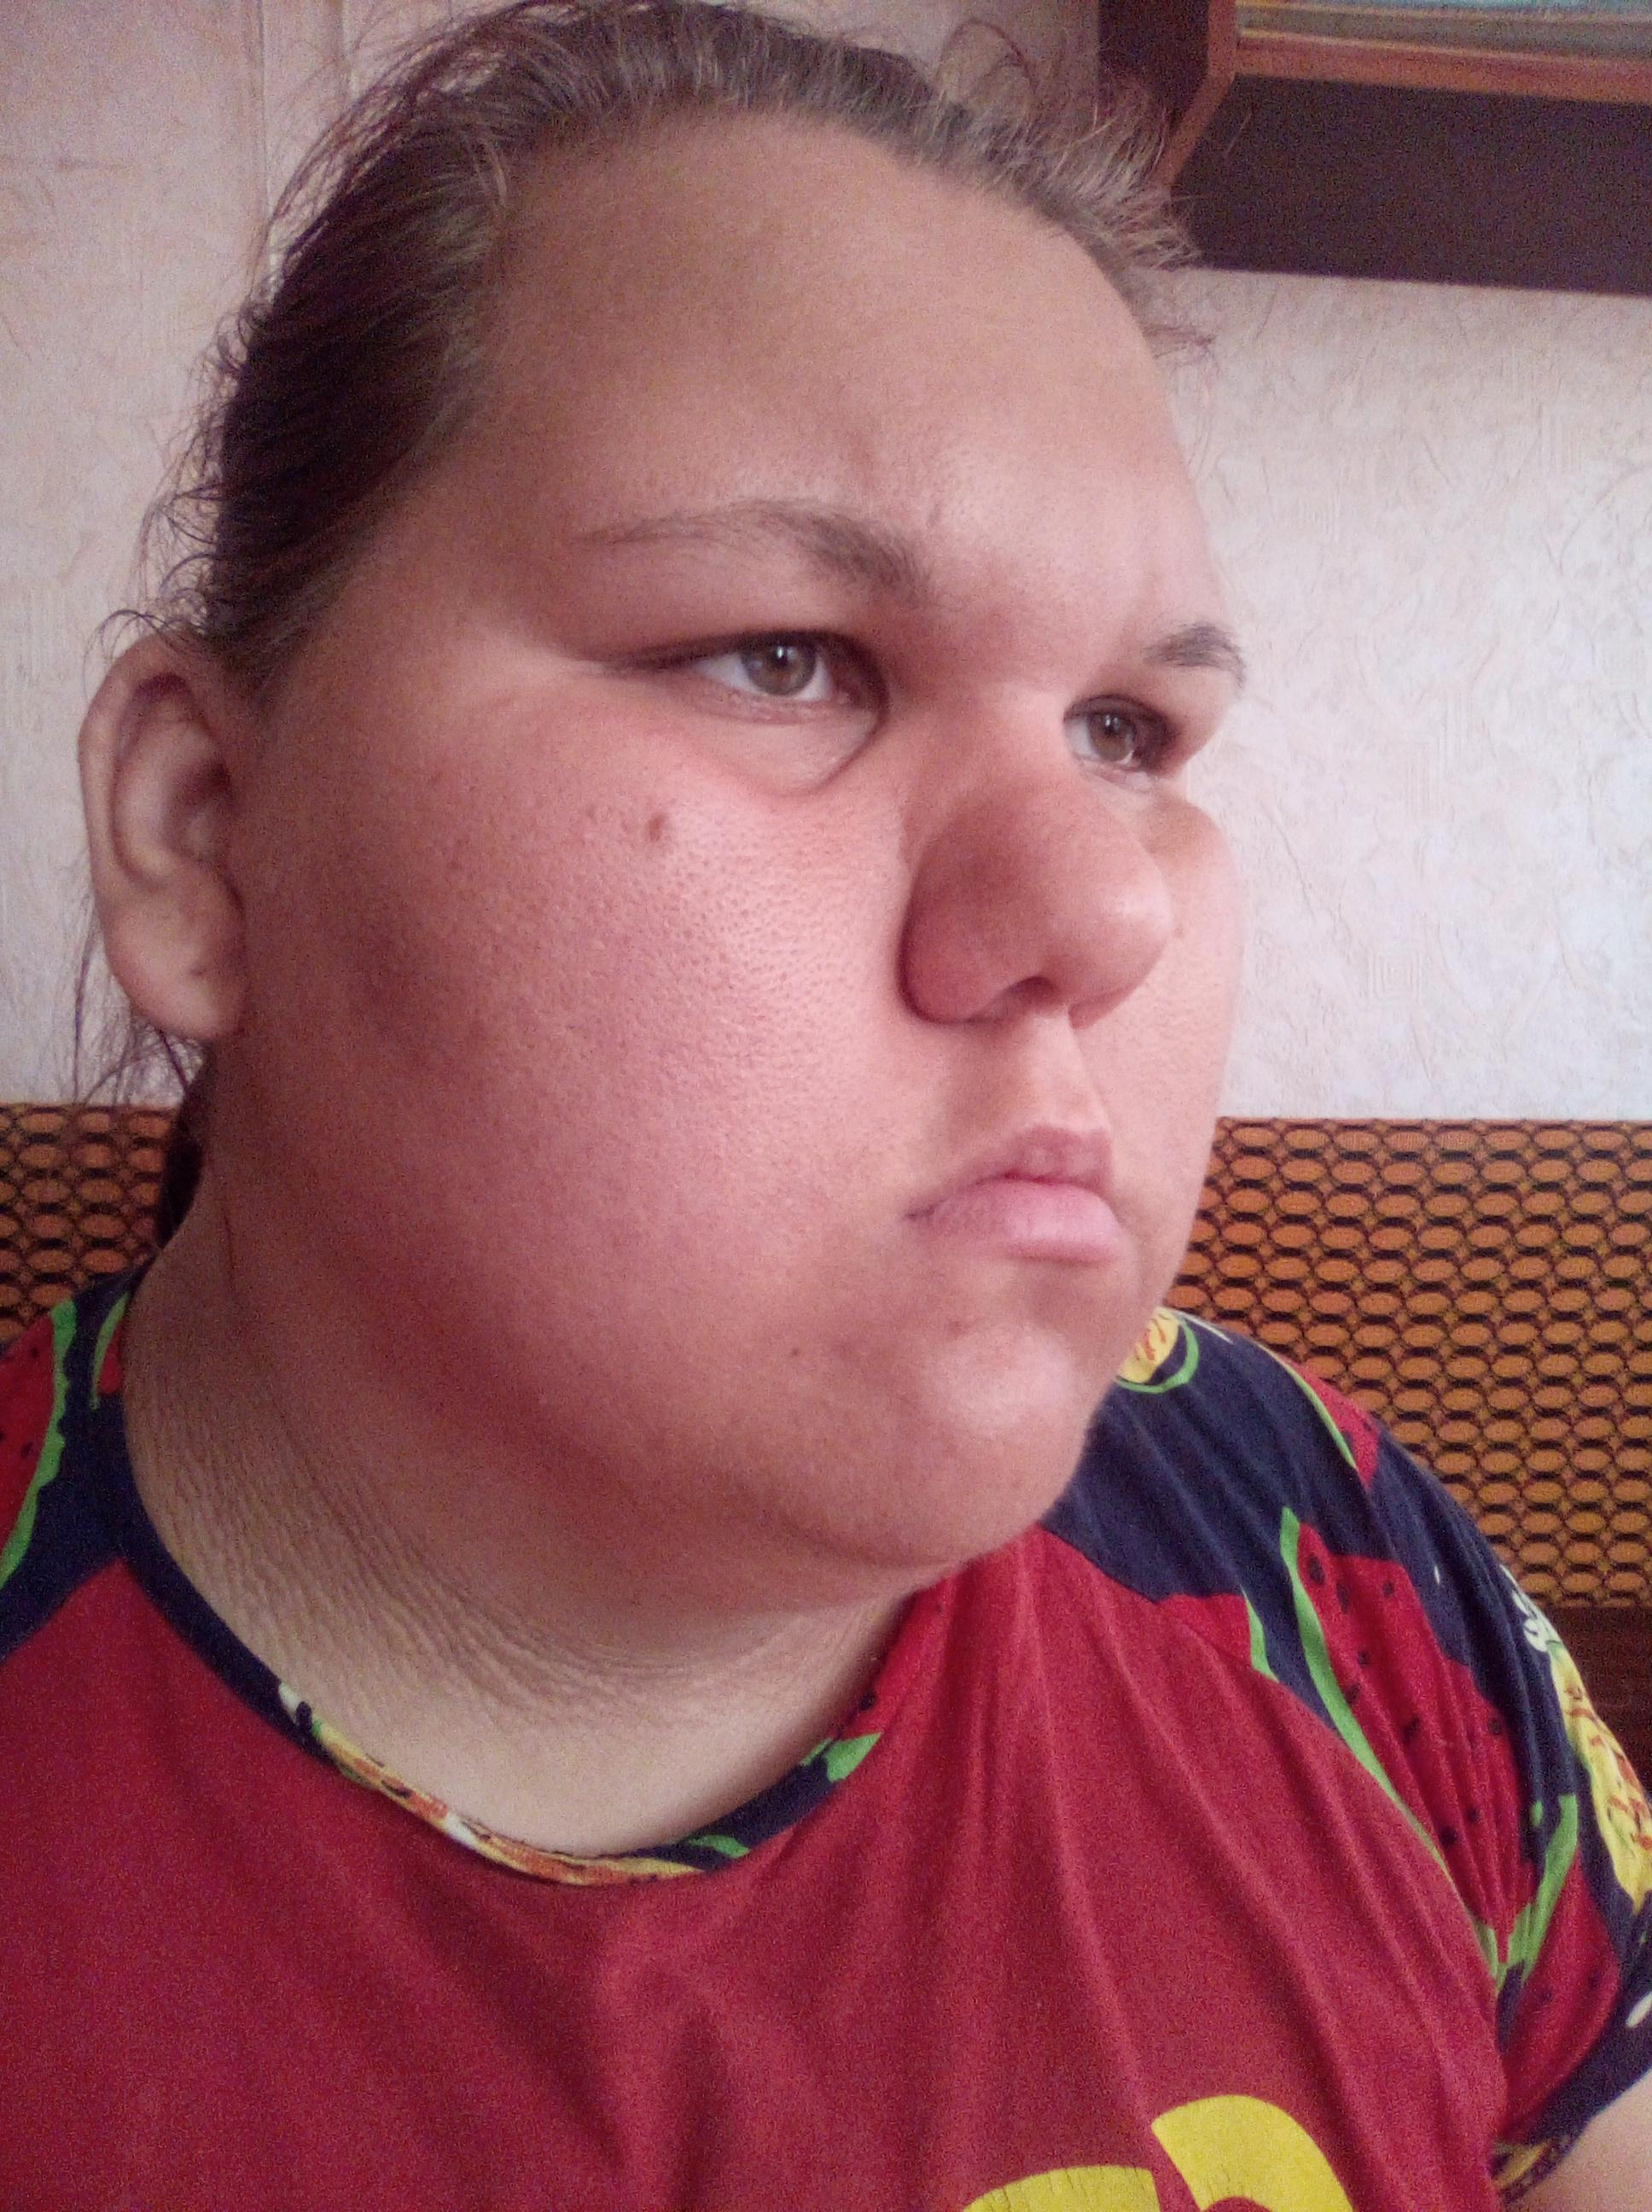Acne: (637, 800, 703, 867), (937, 1301, 1006, 1357)
Englarged-Pores: (560, 883, 850, 1195), (717, 817, 901, 885), (1164, 956, 1220, 1077), (1130, 1086, 1199, 1180)
Eyebags: (663, 692, 920, 805)
